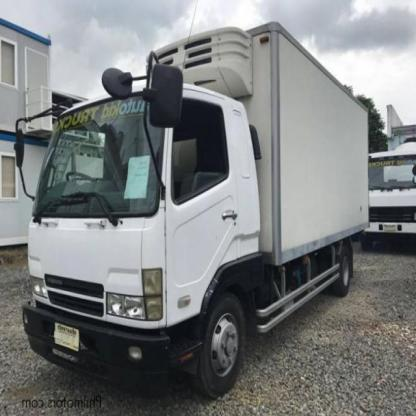truck: (16, 21, 370, 394)
